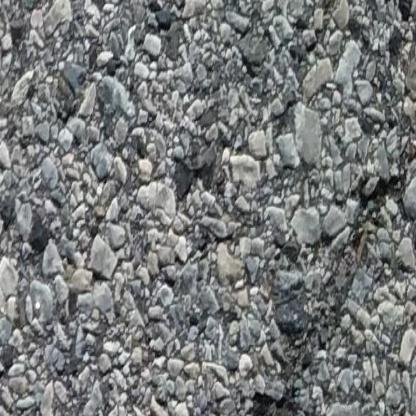Cracks: (216, 134, 416, 416)
